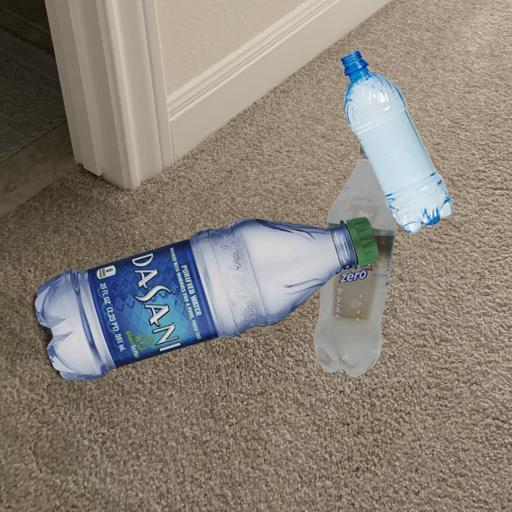bottle: (32, 216, 379, 388), (309, 131, 400, 380), (340, 47, 459, 230)
